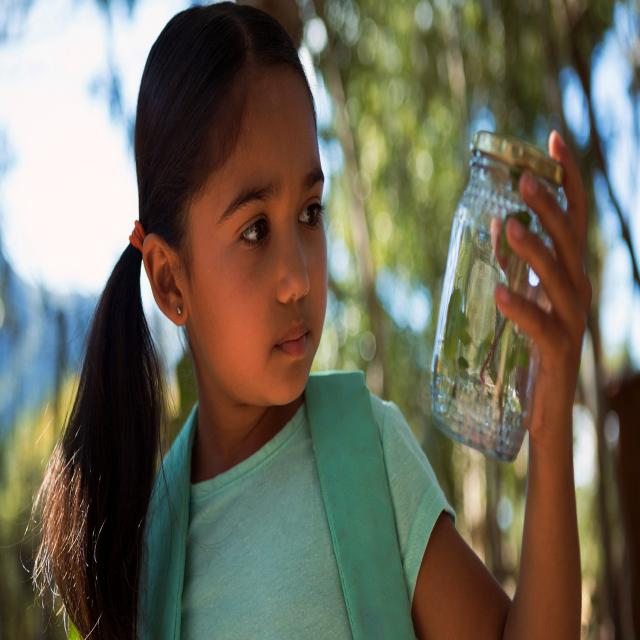child: (27, 0, 594, 640)
